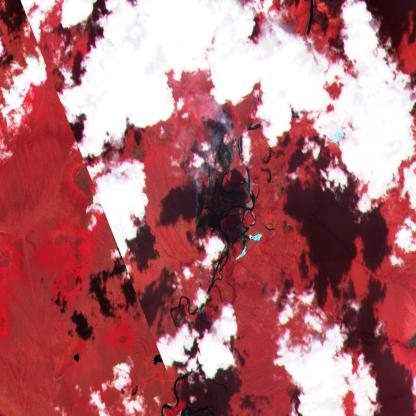fire: (193, 135, 250, 227)
